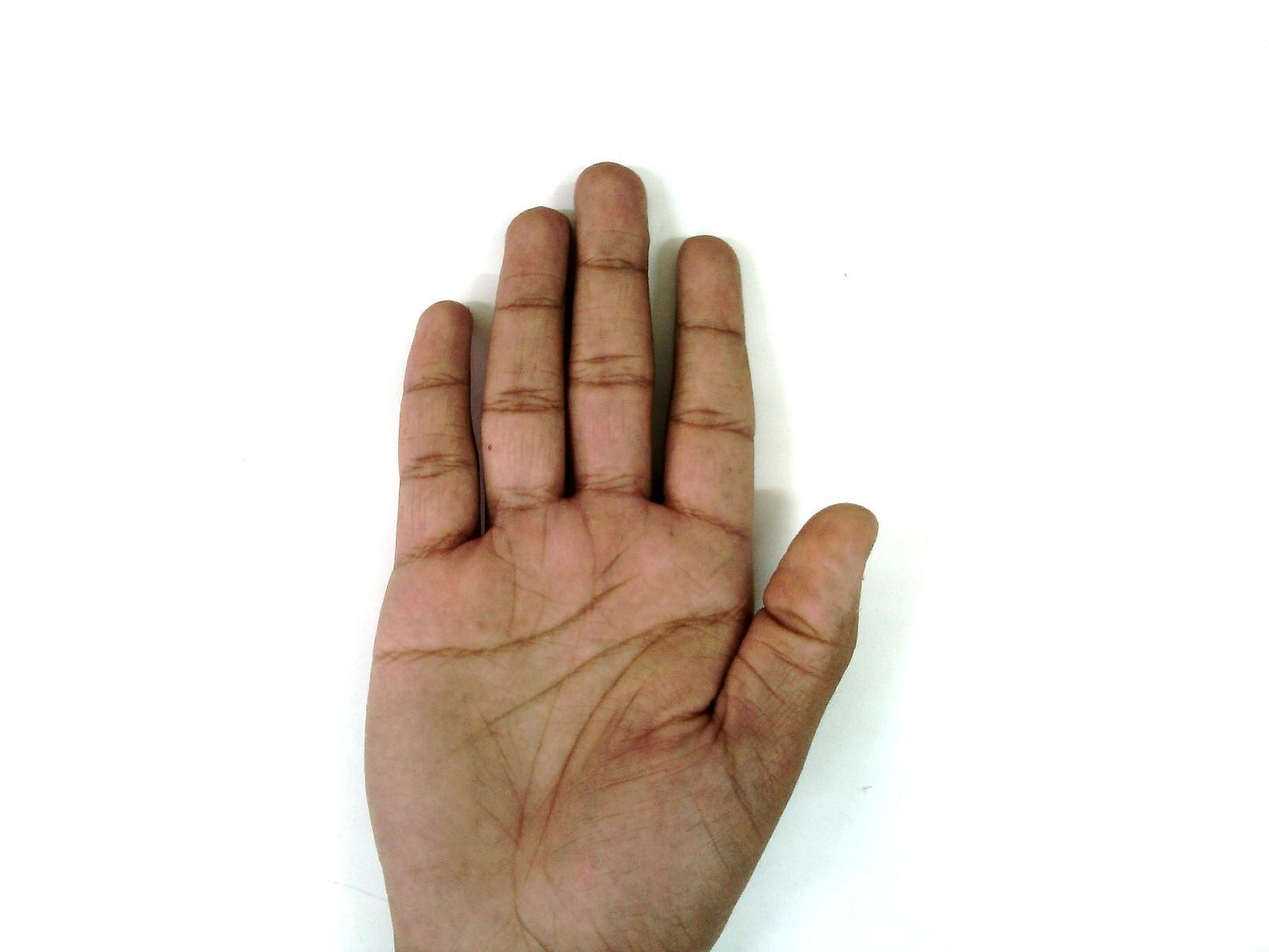open_palm: (360, 161, 882, 951)
